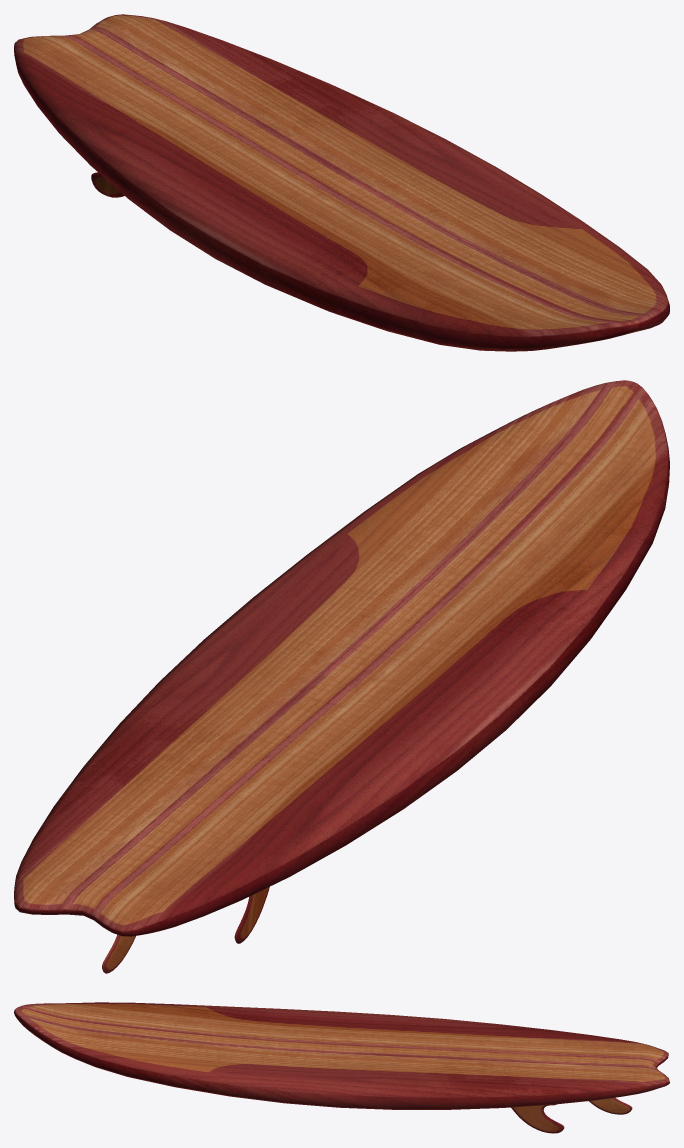
File: tabla1.glb
3 views of the same model, one above another, from view 1: azimuth 30°, elevation 25°; view 2: azimuth 150°, elevation 25°; view 3: azimuth 270°, elevation 25° (orthographic). The views are drawn at different scales.
Visible parts, largest first — view 1: Tabla; view 2: Tabla; view 3: Tabla.
Part boxes in pixels (x1,y1,x2,y2): Tabla: (14,14,669,351); Tabla: (14,380,669,973); Tabla: (14,1002,669,1133).
Bounding box in the file's own units: 76 × 46.69 × 254.
Materials: 1 (1 with a texture image).
